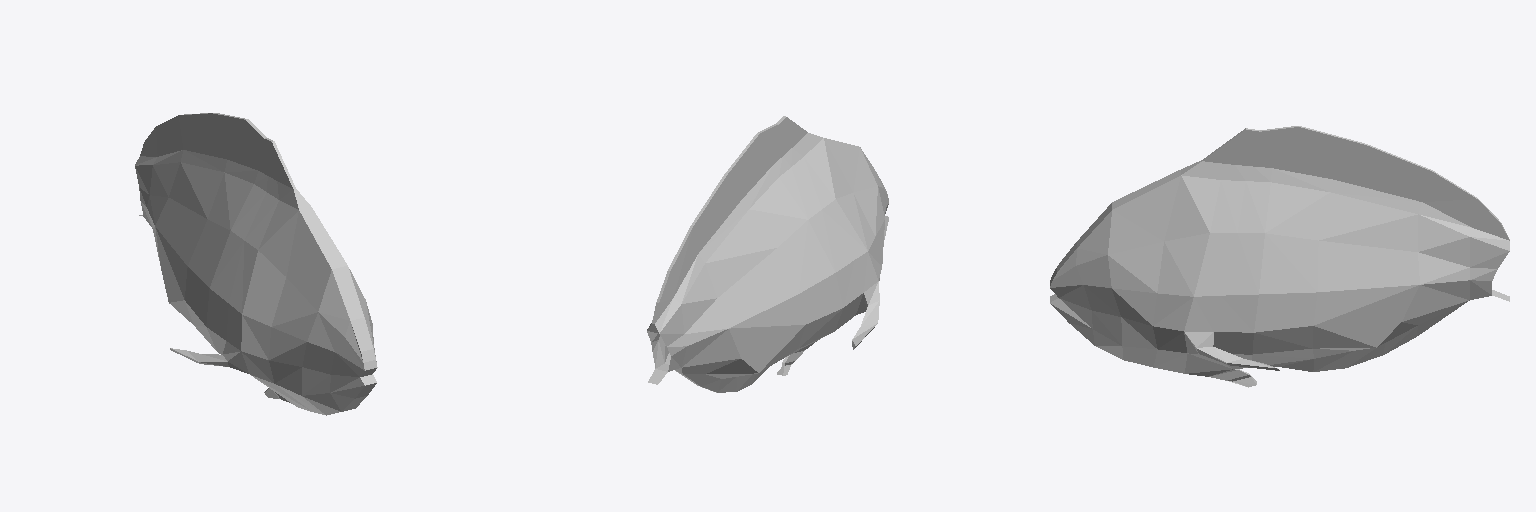
Rendered from PezCu14.obj.
3 renders of one model, left to right at view 1: azimuth 30°, elevation 25°; view 2: azimuth 150°, elevation 25°; view 3: azimuth 270°, elevation 25°, orthographic.
Parts seen in each view (by area): view 1: polySurface1 TropicalFish02:TropicalFish02; view 2: polySurface1 TropicalFish02:TropicalFish02; view 3: polySurface1 TropicalFish02:TropicalFish02.
Part boxes in pixels (x1,y1,x2,y2): polySurface1 TropicalFish02:TropicalFish02: (135,113,377,415); polySurface1 TropicalFish02:TropicalFish02: (647,116,888,392); polySurface1 TropicalFish02:TropicalFish02: (1050,126,1509,387).
Bounding box in the file's own units: 3.47 × 4.95 × 7.97.